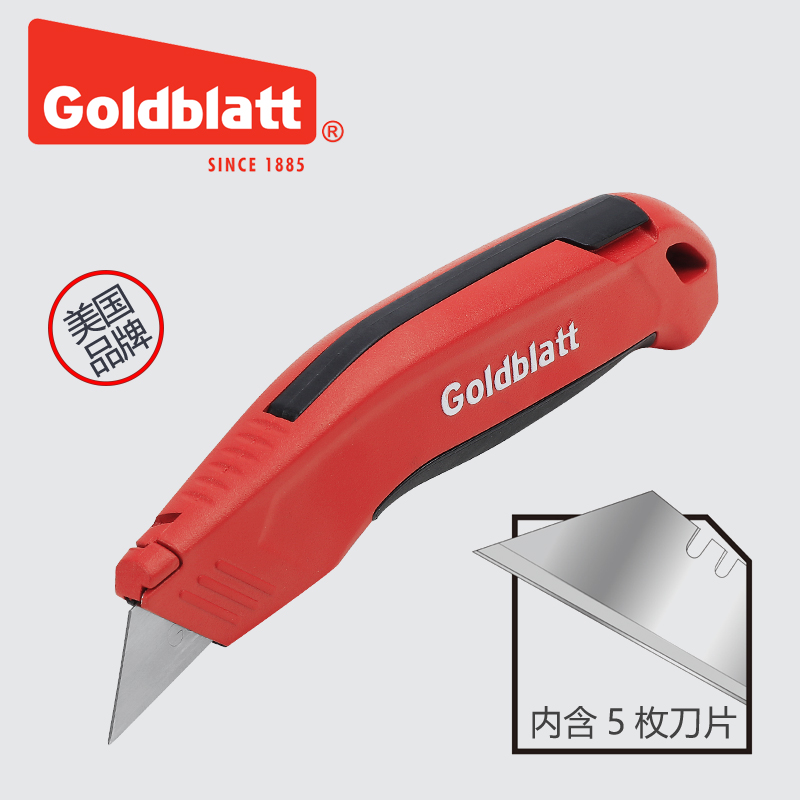cutter: (103, 189, 720, 746)
